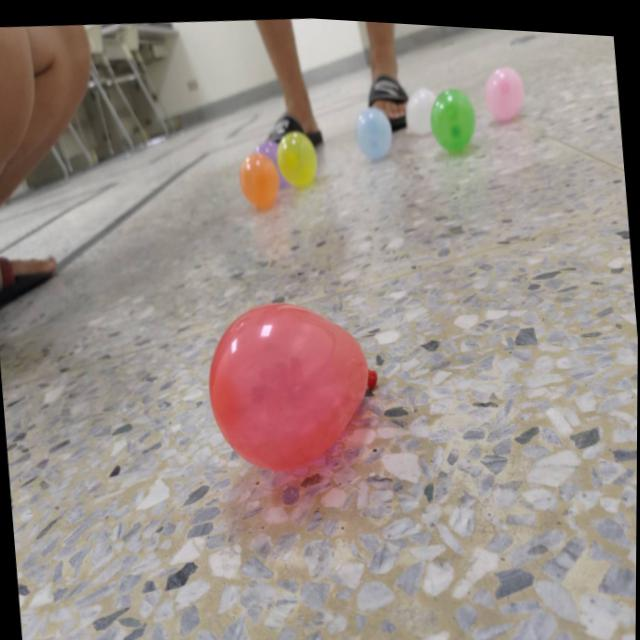other: (426, 81, 478, 147), (237, 147, 281, 210), (482, 56, 527, 116), (276, 125, 321, 184), (354, 99, 395, 156), (404, 81, 438, 131), (255, 134, 285, 187)
red: (199, 285, 388, 477)
